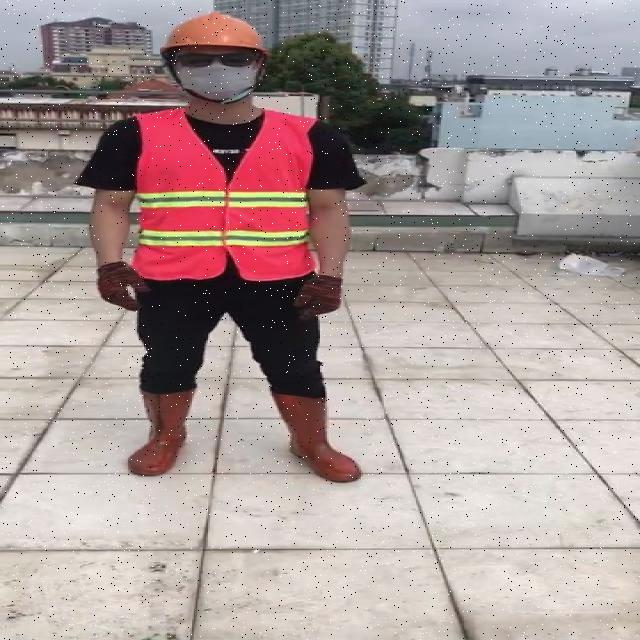Hard_hat: (155, 10, 269, 65)
Vest: (131, 111, 315, 284)
